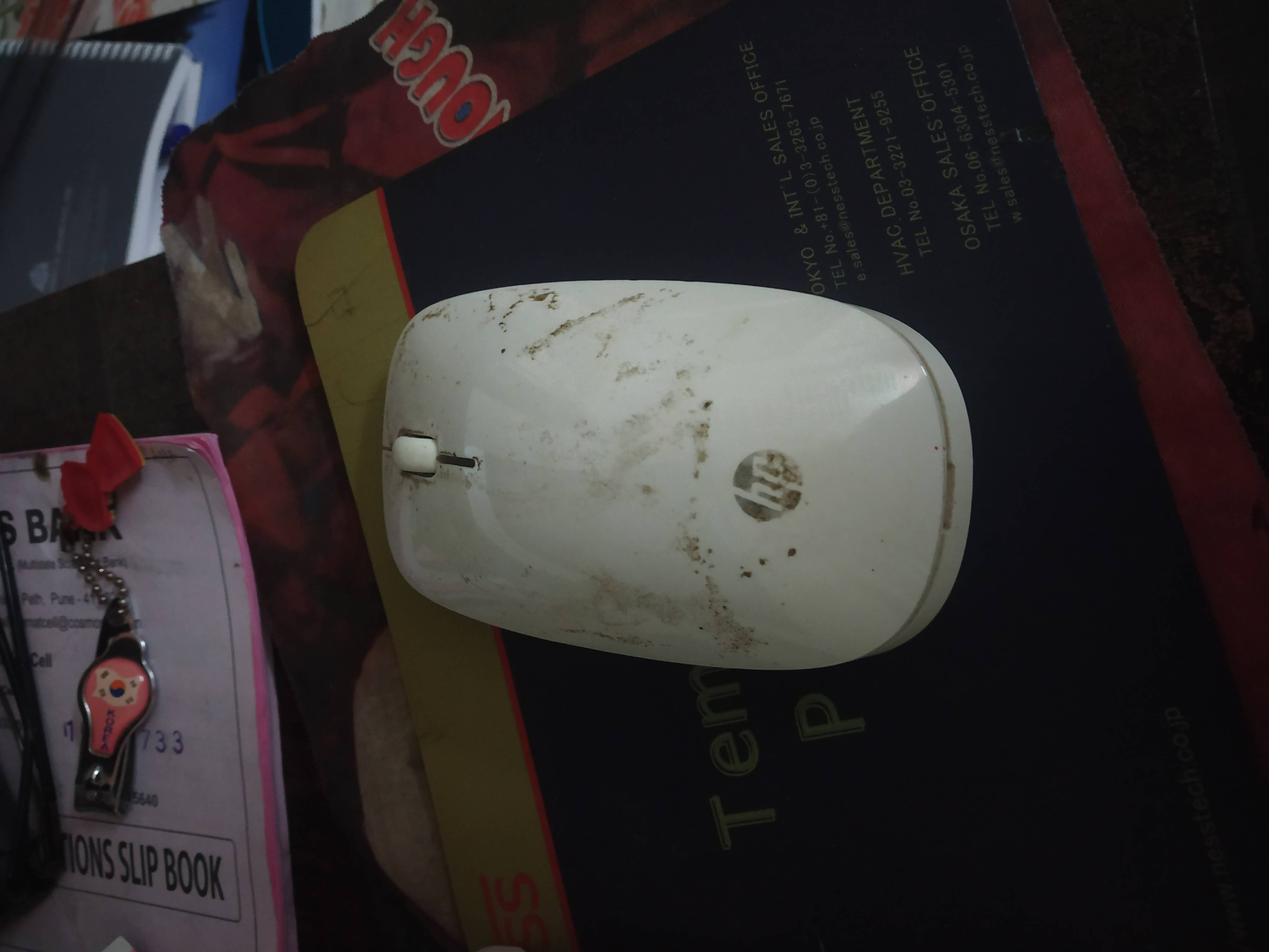Electronics: (361, 262, 991, 685)
